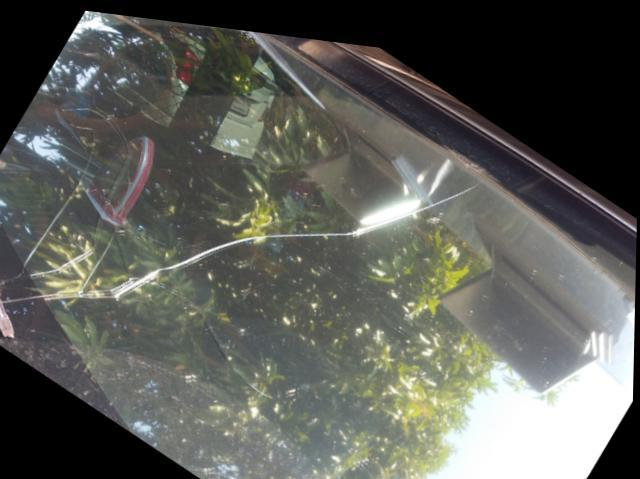glass shatter: (0, 8, 636, 479)
